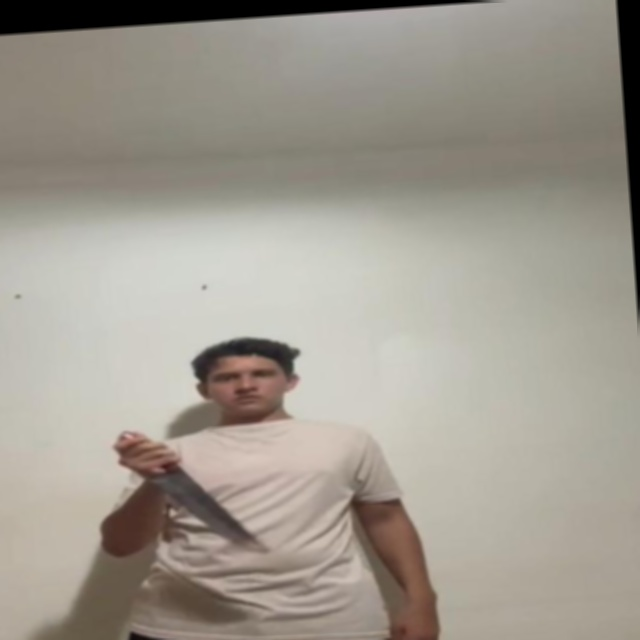Sharp-Object: (146, 463, 260, 559)
